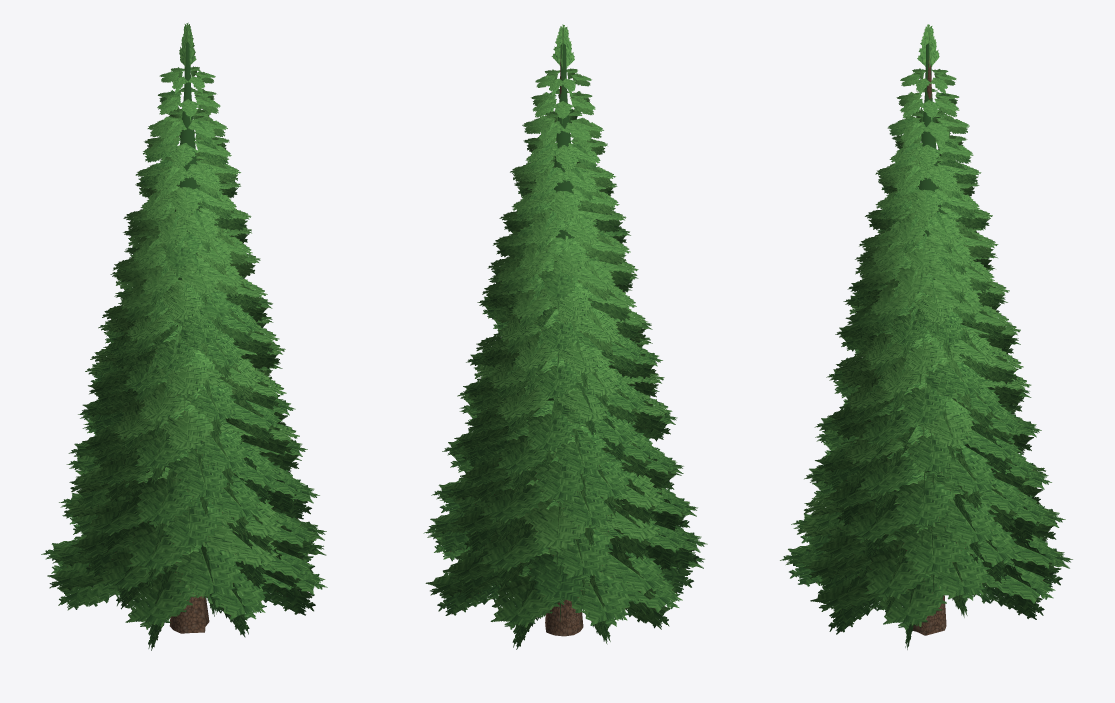
The model's file is spruce_tree.glb.
3 renders of one model, left to right at view 1: azimuth 30°, elevation 25°; view 2: azimuth 150°, elevation 25°; view 3: azimuth 270°, elevation 25°, orthographic.
Visible parts, largest first — view 1: spruce_tree; view 2: spruce_tree; view 3: spruce_tree.
Boxes of the visible parts, x1,y1,x2,y2 form: spruce_tree: (41,22,327,650); spruce_tree: (423,24,707,649); spruce_tree: (780,24,1072,649).
Size of the model in its own units: 6.16 by 12.63 by 6.27.
3 materials, 2 textured.
